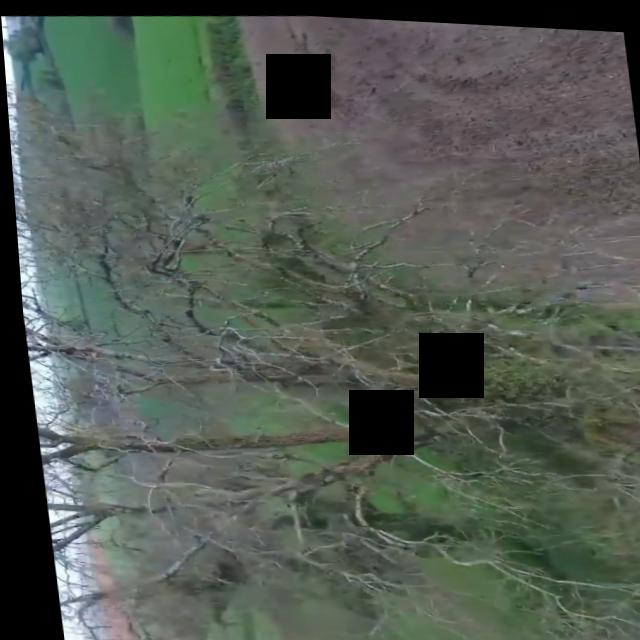Tree: (2, 39, 640, 640)
